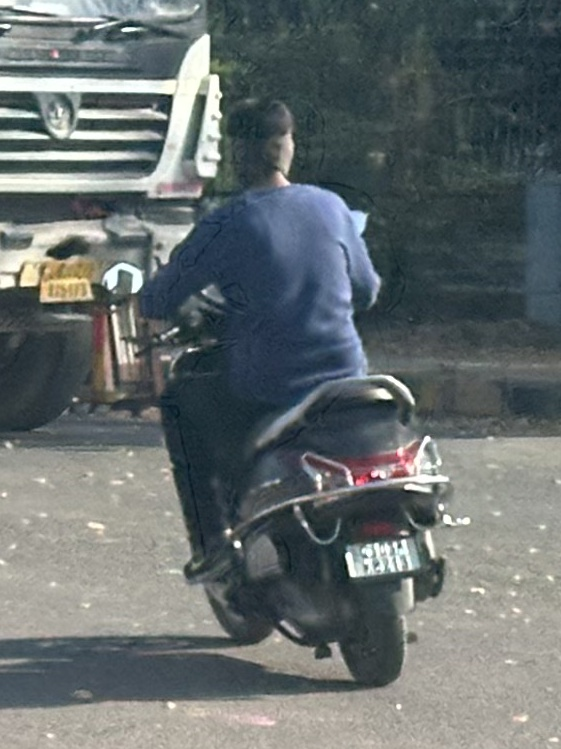BikeWithRider: (81, 86, 475, 694)
NoHelmet: (212, 87, 310, 196)
